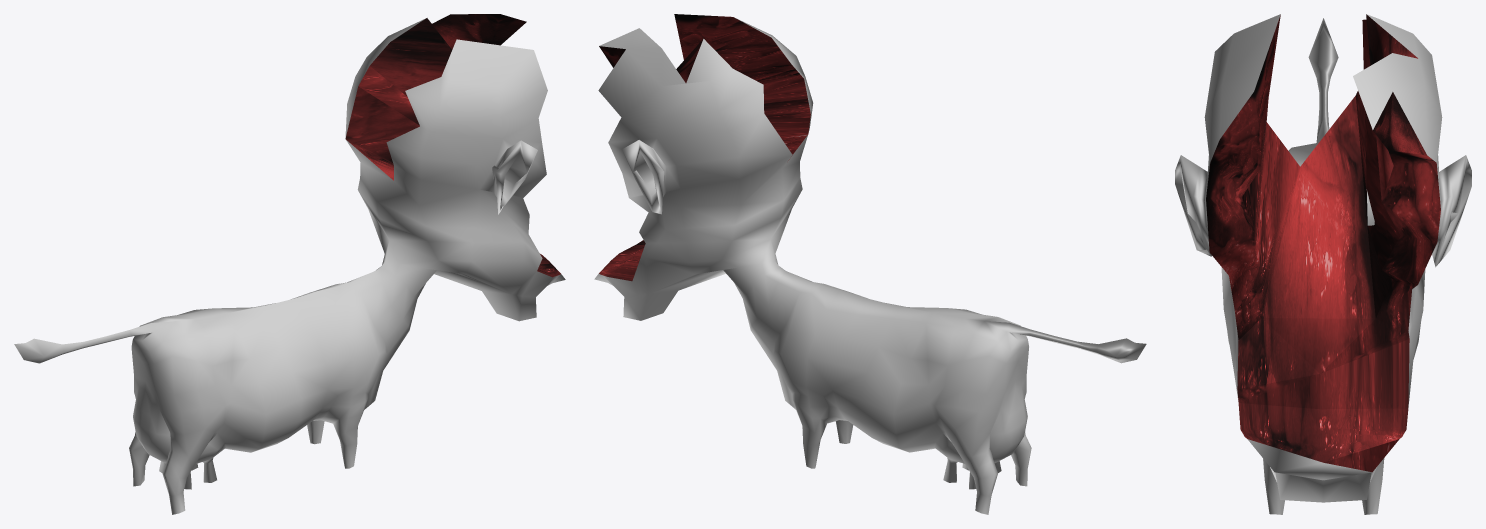
The model's file is cowMan dead.fbx.
The picture shows the model from 3 angles, left to right: view 1: azimuth 30°, elevation 25°; view 2: azimuth 150°, elevation 25°; view 3: azimuth 270°, elevation 25°; orthographic projection. The views are drawn at different scales.
Parts seen in each view (by area): view 1: polySurface4; view 2: polySurface4; view 3: polySurface4.
Part boxes in pixels (box(x1,y1,x2,y2)): polySurface4: box(14, 14, 565, 514); polySurface4: box(594, 14, 1146, 514); polySurface4: box(1175, 14, 1471, 514).
Bounding box in the file's own units: 52.64 × 37.65 × 17.45.
